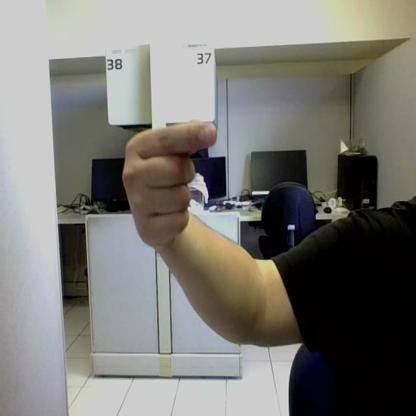G: (123, 123, 216, 248)
